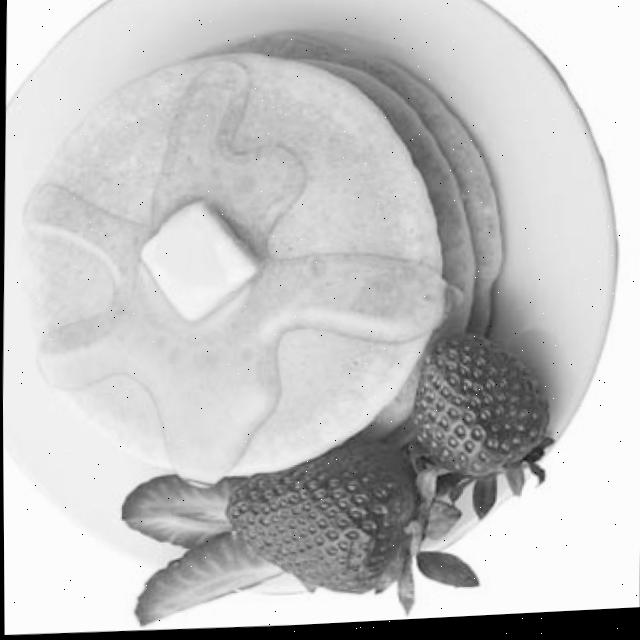蛋糕甜品: (0, 0, 601, 630)
